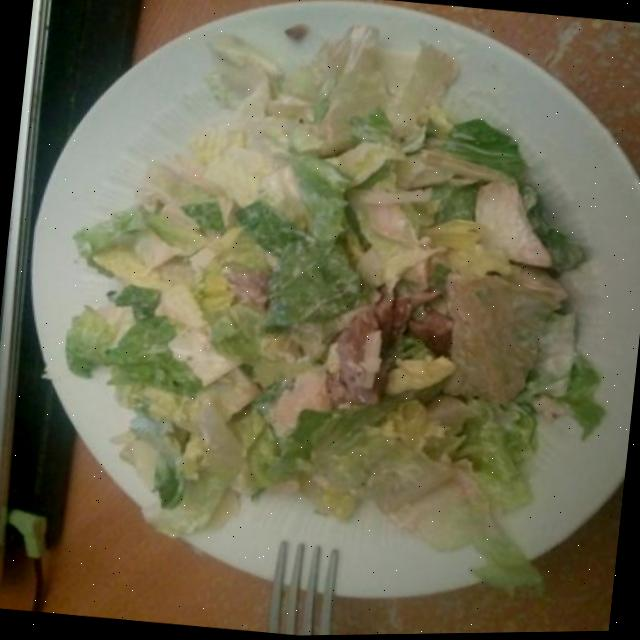蔬菜料理: (16, 0, 640, 625)
